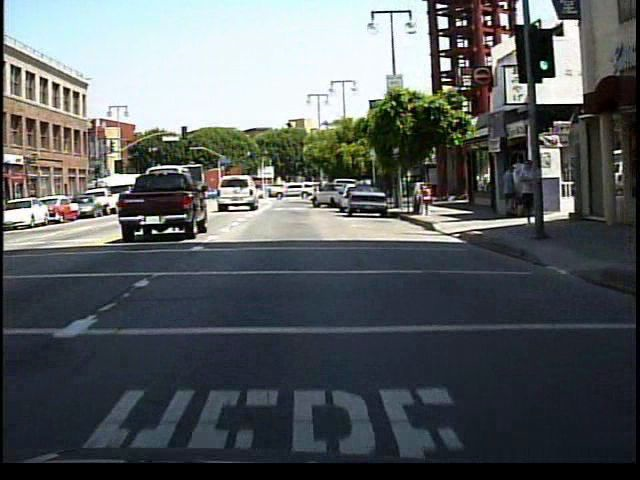person: (512, 156, 536, 228), (498, 164, 516, 222)
